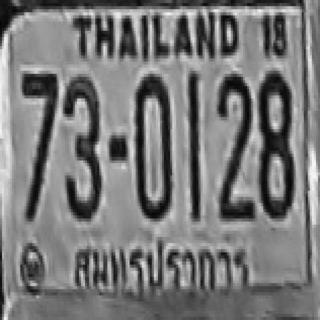N00: (135, 75, 172, 219)
N01: (186, 71, 199, 218)
N02: (218, 76, 252, 220)
N03: (63, 75, 101, 220)
N07: (20, 71, 57, 218)
N08: (258, 71, 292, 219)
P57: (65, 233, 257, 299)
